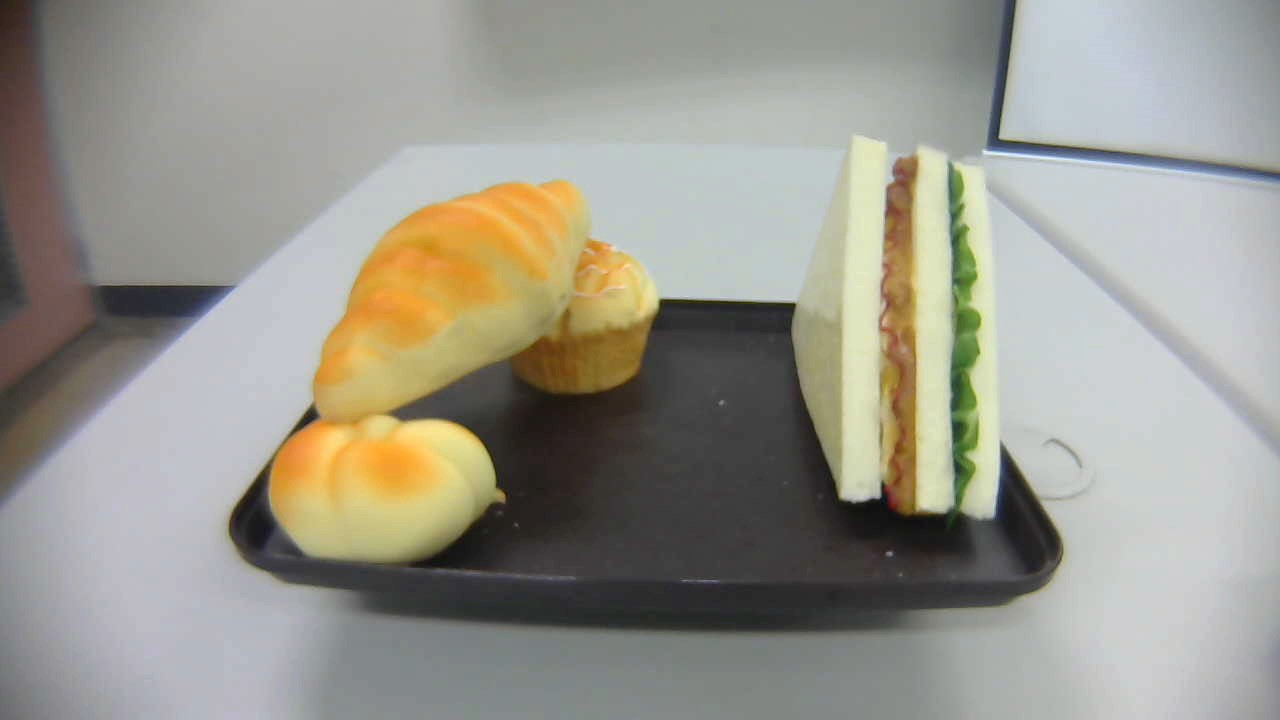croissant: (312, 179, 584, 413)
cupcake: (513, 237, 658, 397)
sandwich: (790, 133, 1001, 520)
twist bread: (267, 416, 508, 568)
